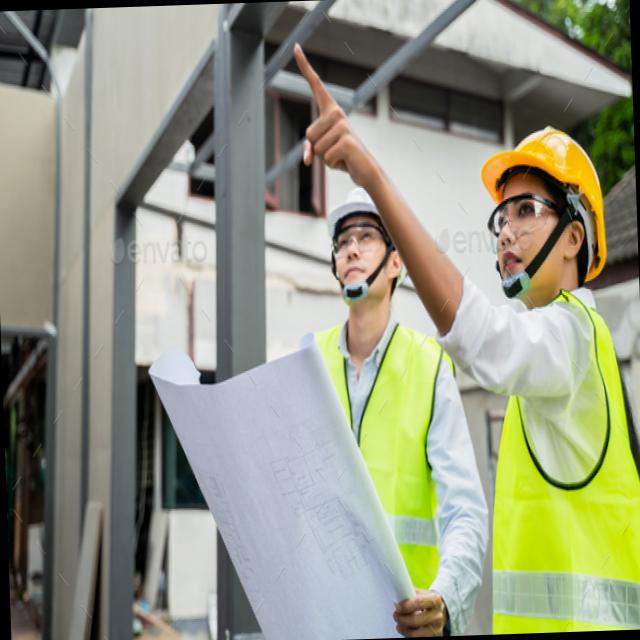goggles: (483, 185, 565, 242), (332, 226, 384, 256)
helmet: (480, 126, 610, 202), (323, 184, 393, 233)
vest: (295, 318, 454, 620), (513, 287, 640, 633)
